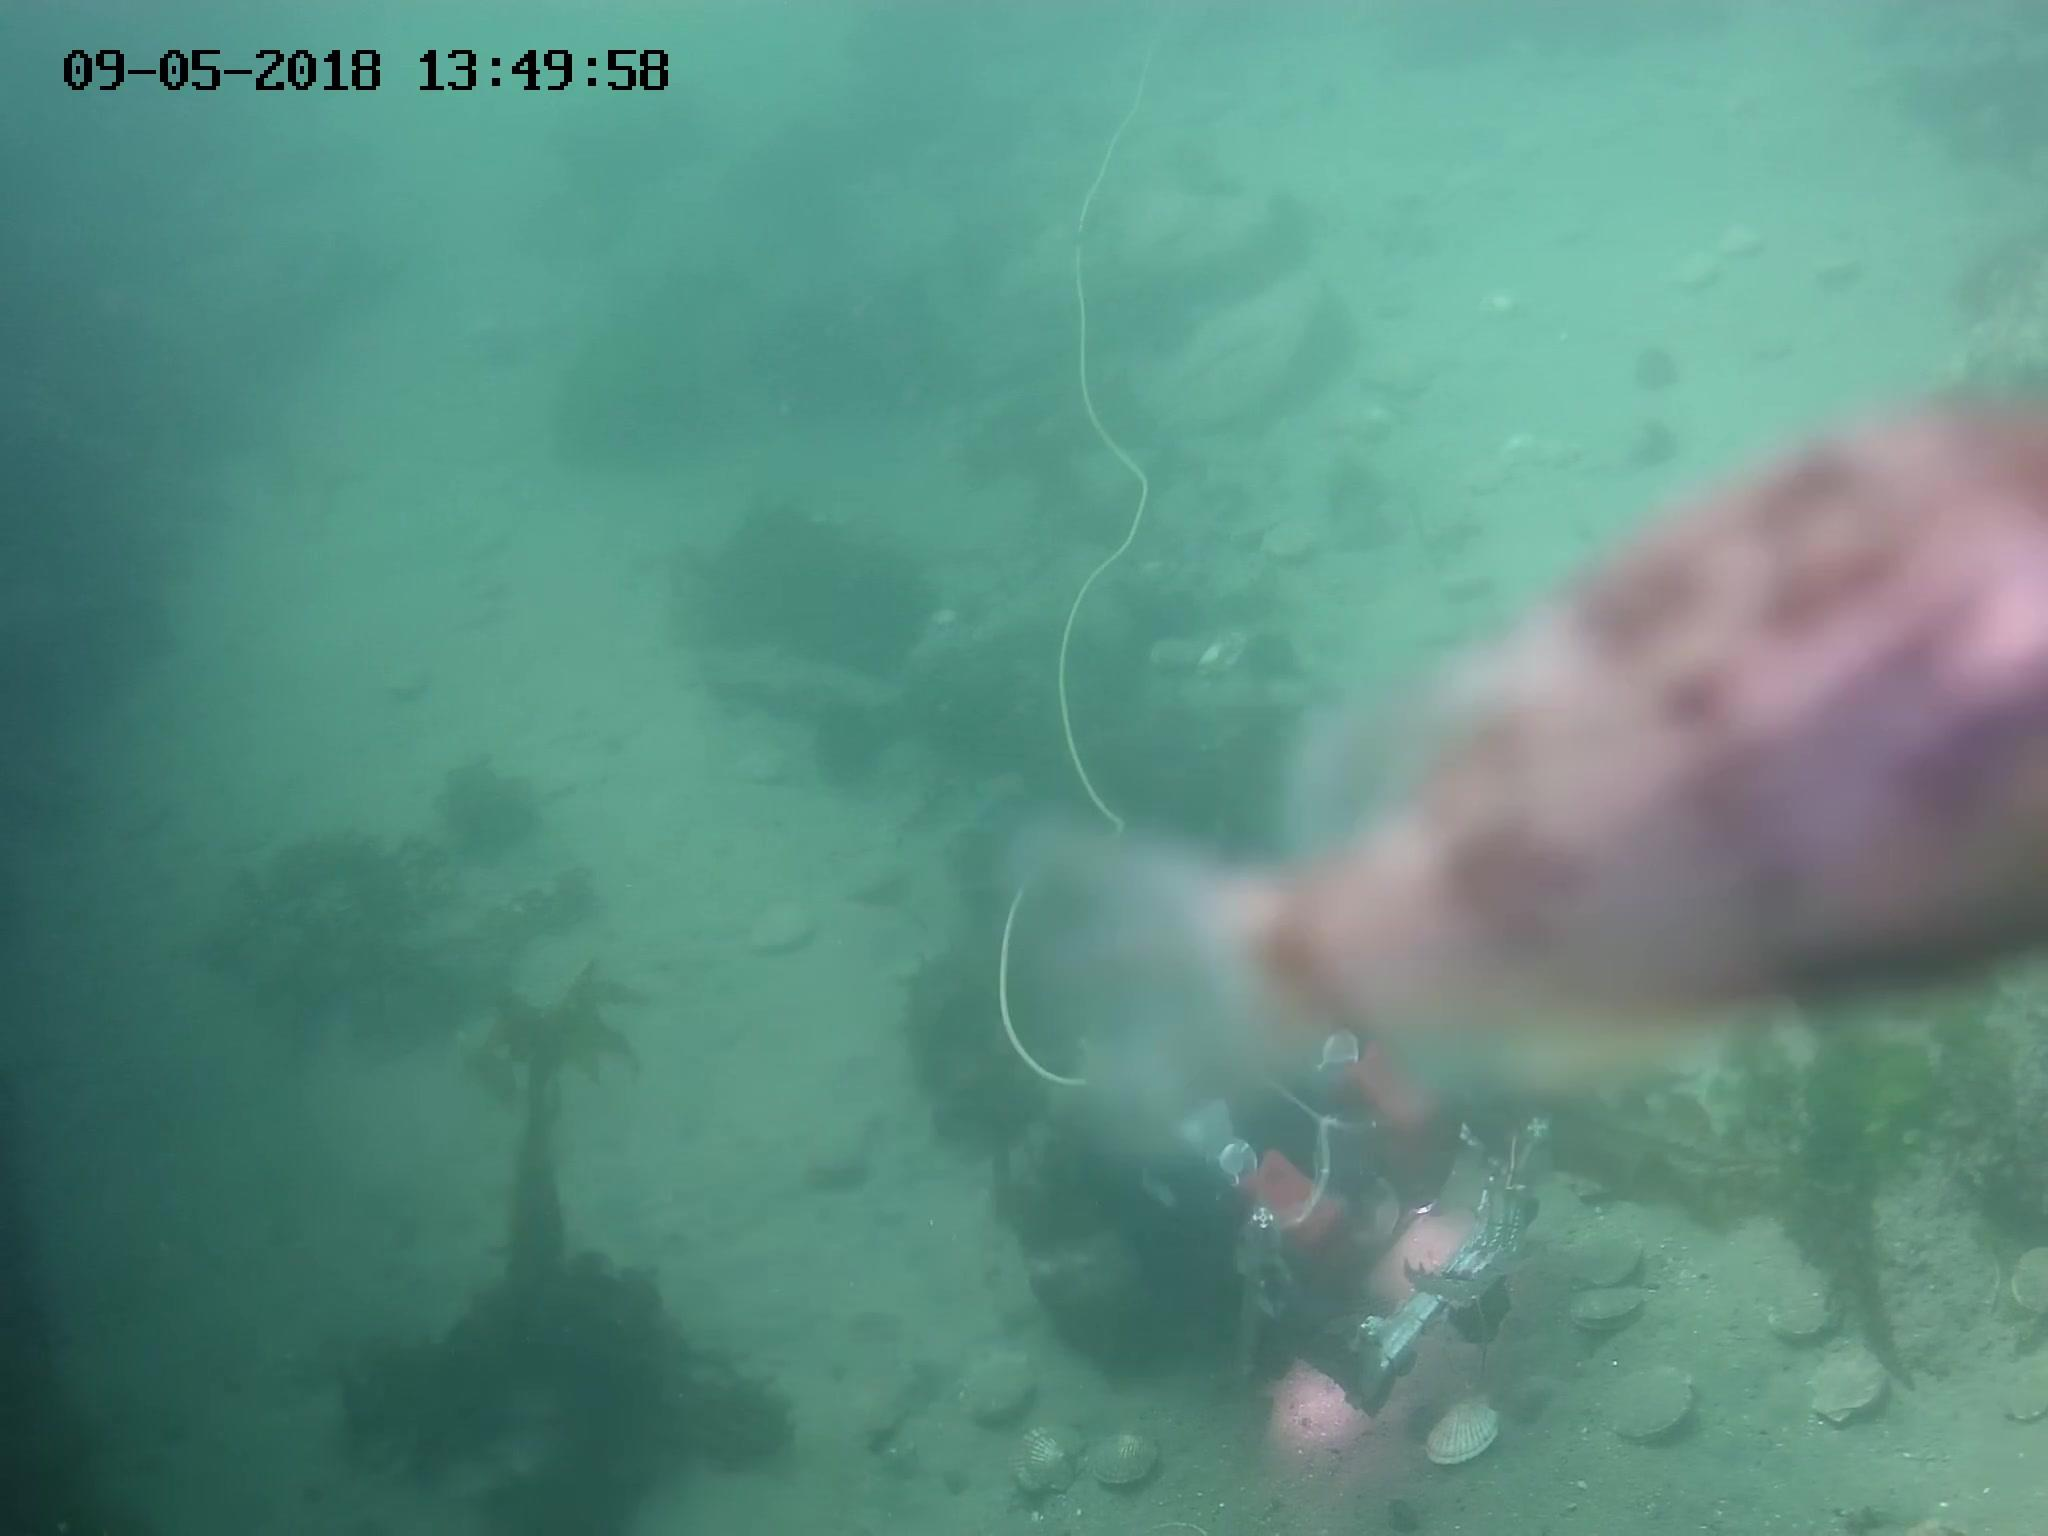scallop: (1605, 1355, 1701, 1441), (1809, 1339, 1885, 1423), (1006, 1423, 1080, 1499), (1427, 1392, 1503, 1467), (971, 1350, 1040, 1426), (1767, 1283, 1845, 1347), (1992, 1338, 2048, 1423), (1571, 1223, 1642, 1281), (1092, 1430, 1159, 1489), (2004, 1238, 2048, 1317), (1571, 1283, 1646, 1328), (1264, 520, 1317, 570)
